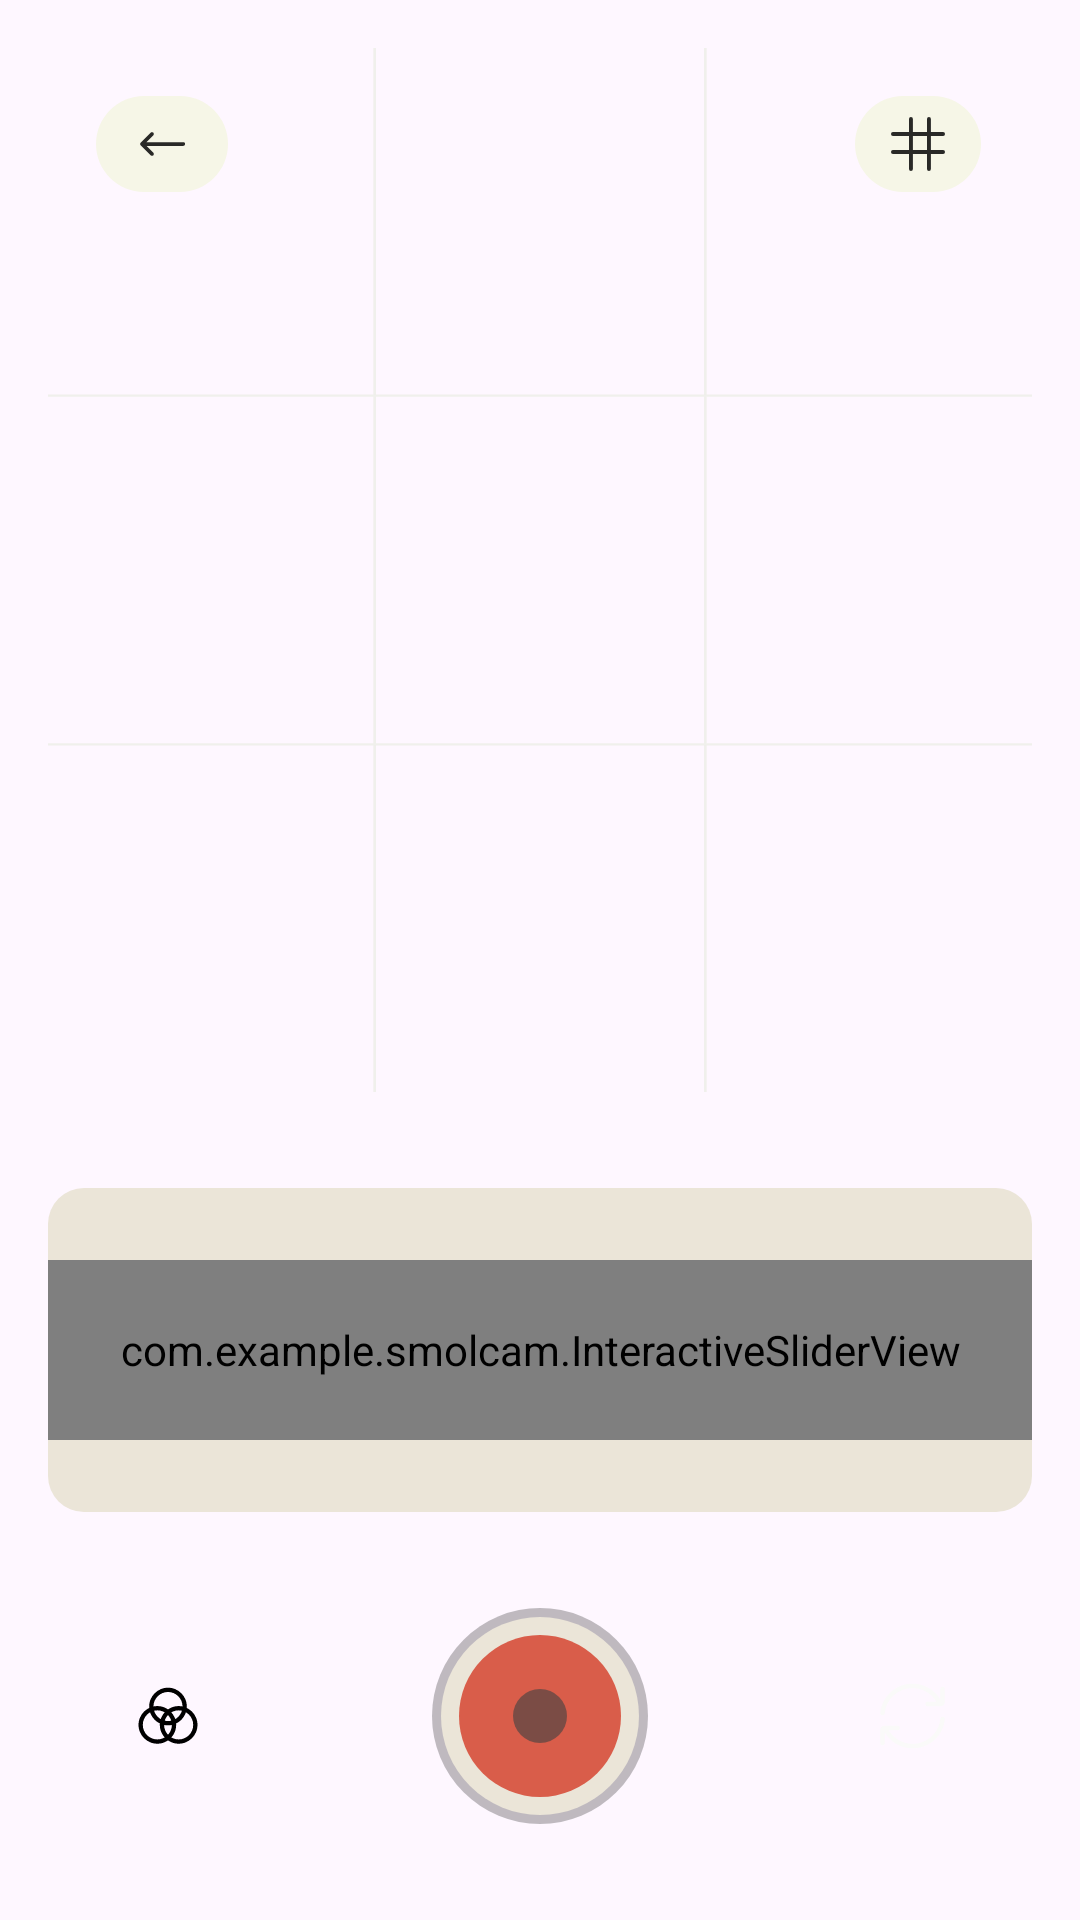

Named icons in this screenshot (1080x1920) and their centers, [x,y]:
arrowbutton: [162,144]
filterbutton: [168,1715]
gridbutton: [918,144]
